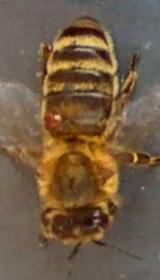varroa_mite: (36, 99, 81, 136)
